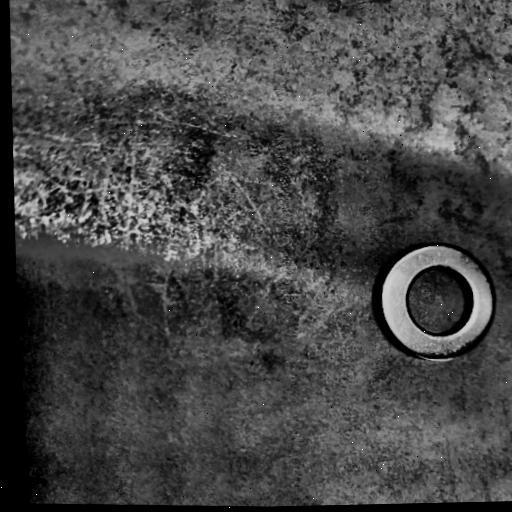Washer: (377, 242, 496, 360)
